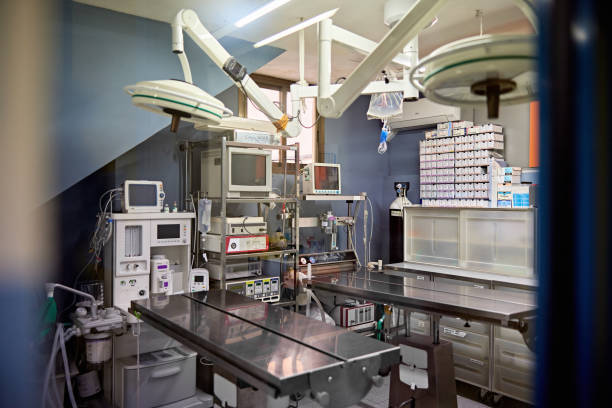bedside_monitor: (201, 148, 272, 200), (120, 181, 166, 213), (303, 163, 342, 195)
cabinet: (396, 201, 535, 402)
operating_bed: (126, 290, 400, 408), (308, 271, 540, 408)
surgical_light: (404, 30, 544, 116), (120, 75, 233, 132)
